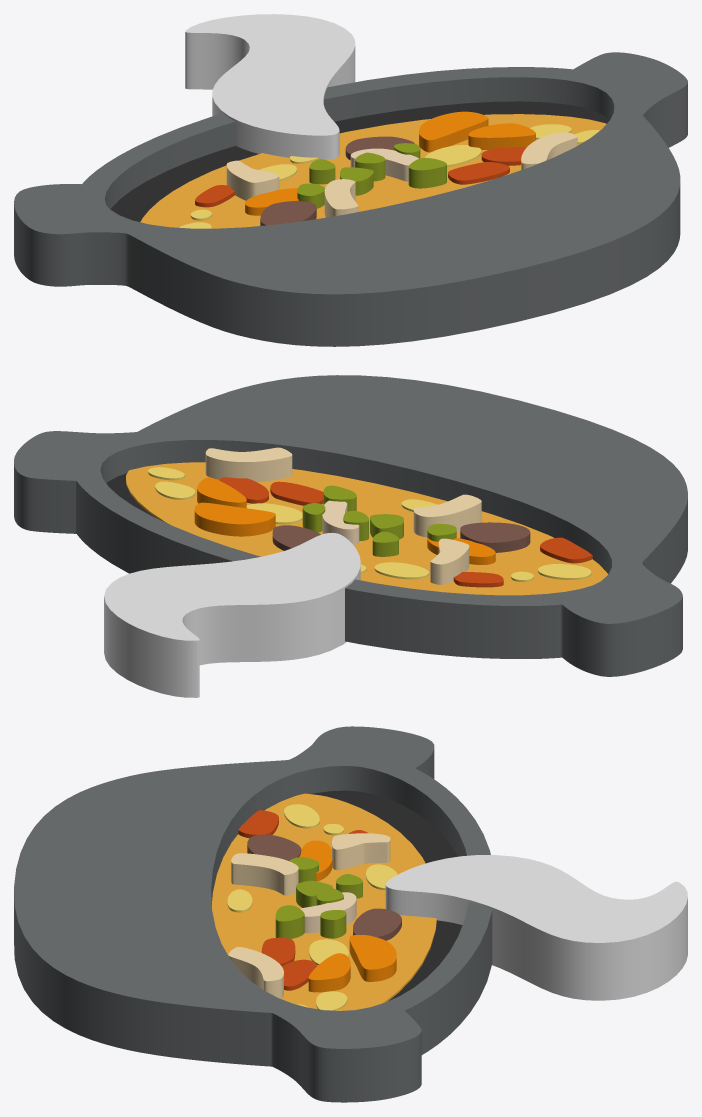
The model's file is emoji_u1f372.glb.
3 renders of one model, top to bottom at view 1: azimuth 30°, elevation 25°; view 2: azimuth 150°, elevation 25°; view 3: azimuth 270°, elevation 25°, orthographic. The views are drawn at different scales.
Visible parts, largest first — view 1: emoji_u1f372; view 2: emoji_u1f372; view 3: emoji_u1f372.
Boxes of the visible parts, left/top/right/bottom form: emoji_u1f372: left=14, top=14, right=687, bottom=346; emoji_u1f372: left=14, top=375, right=687, bottom=697; emoji_u1f372: left=14, top=726, right=687, bottom=1102.
Bounding box in the file's own units: 0.0335 × 0.0028 × 0.0296.
